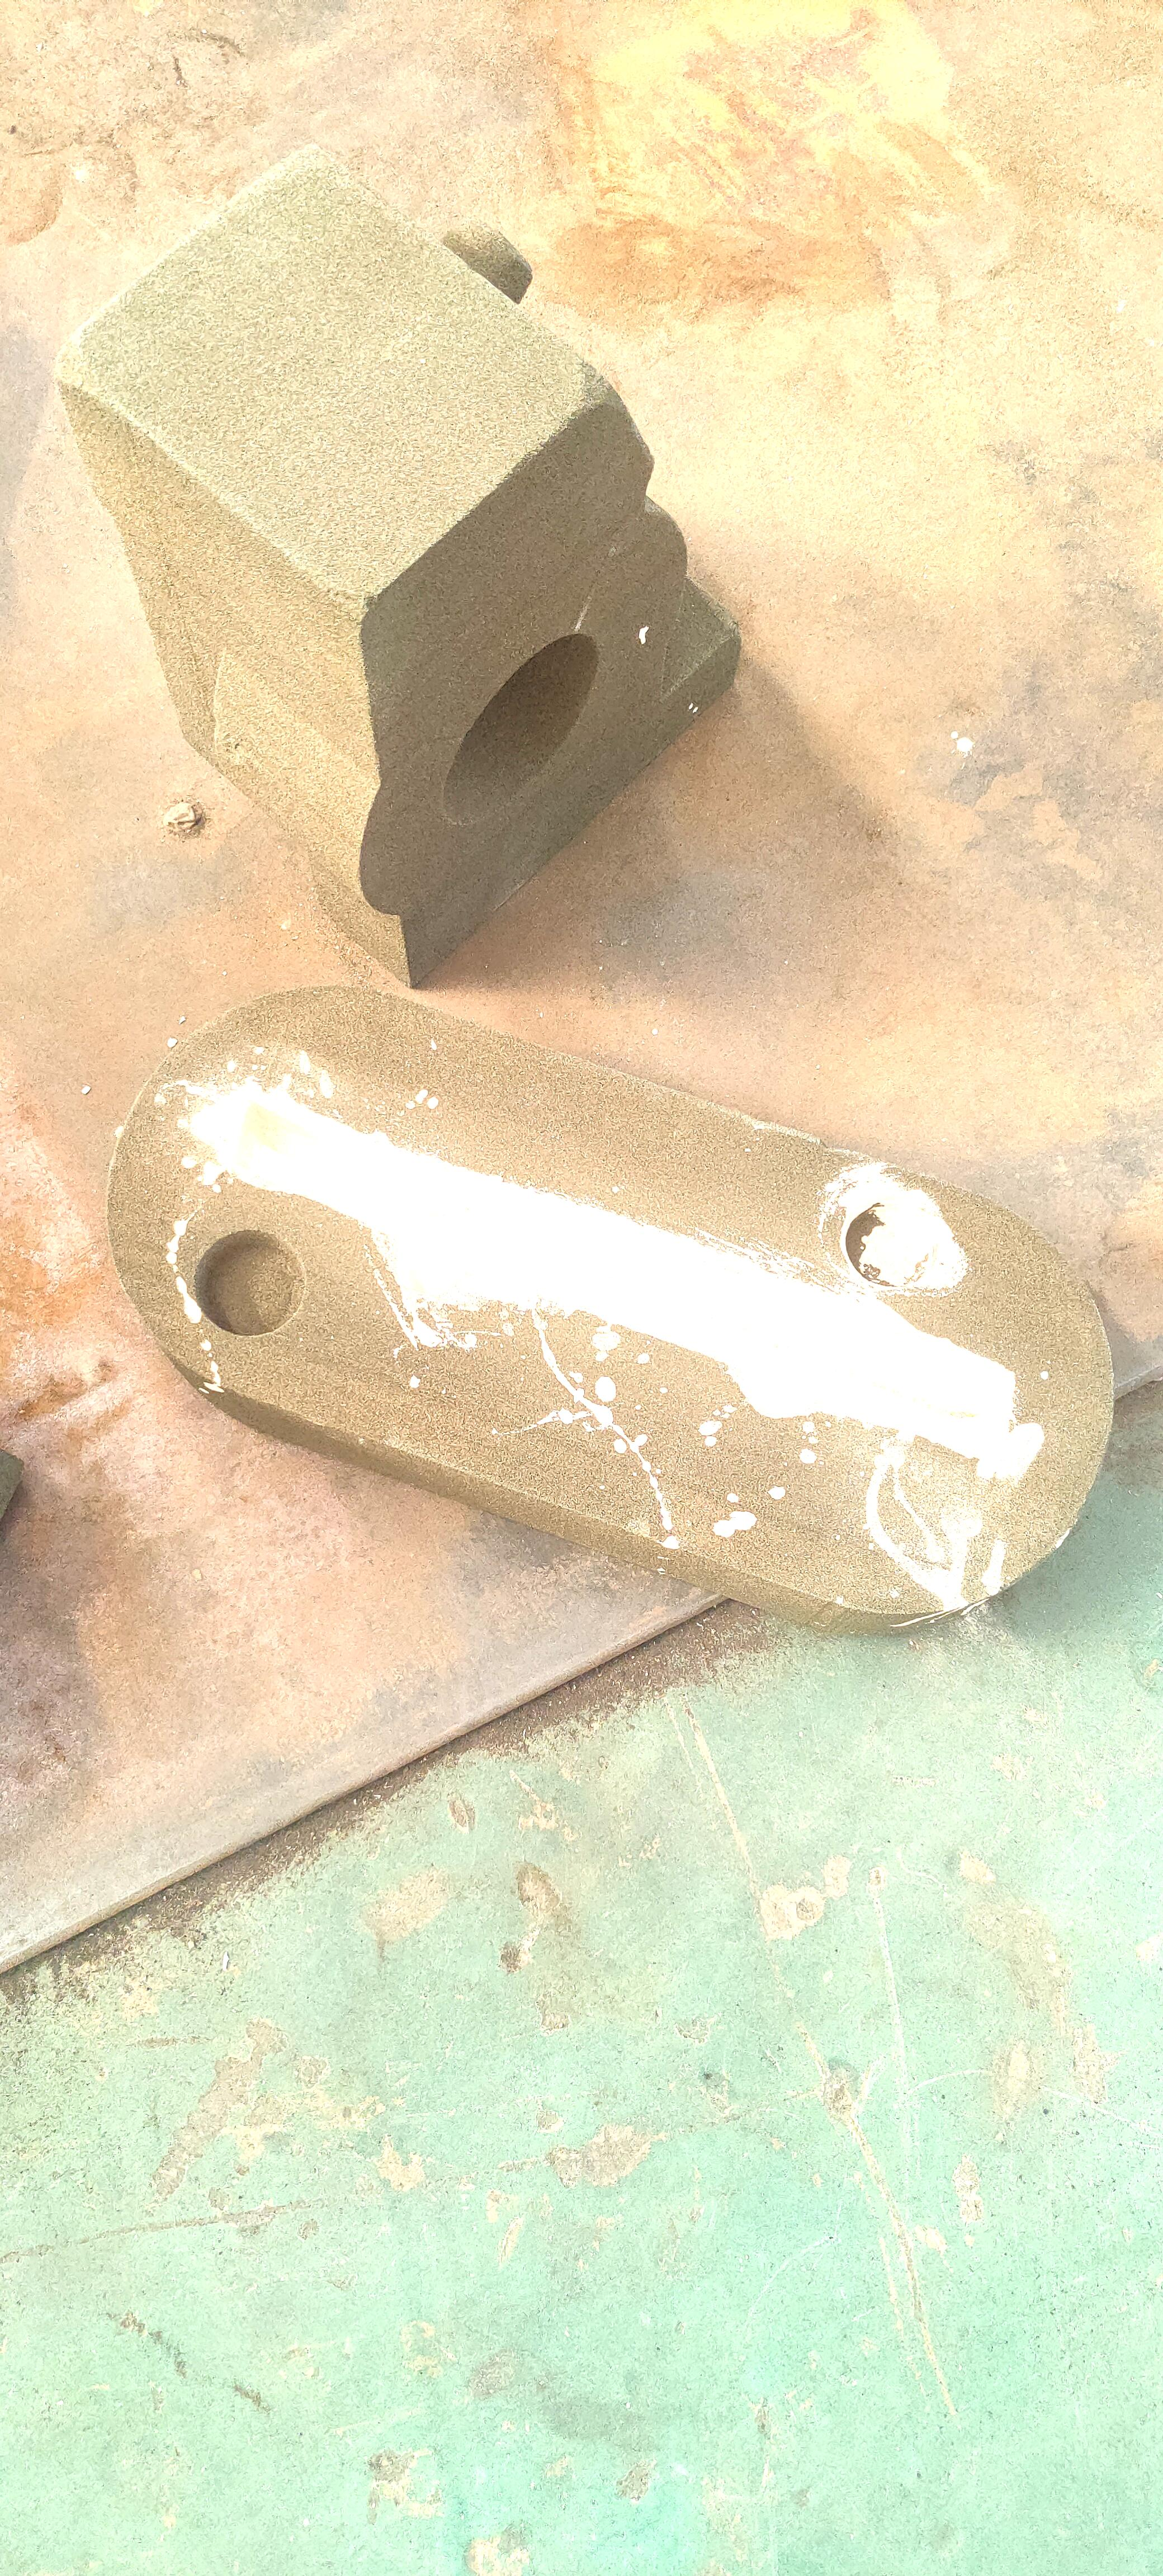pouring hole: (442, 636, 604, 826)
